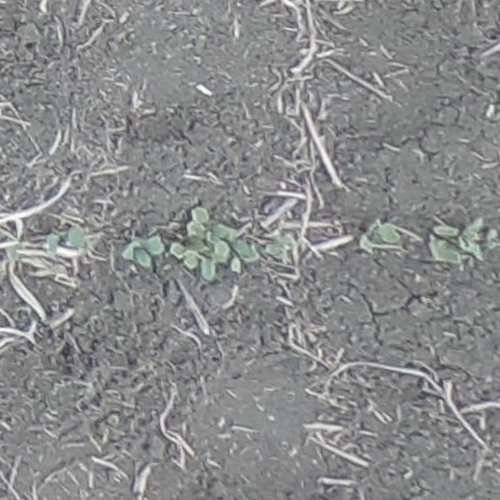clumped: (169, 206, 260, 282)
isolated: (461, 217, 499, 262), (359, 218, 400, 254), (121, 234, 164, 267), (427, 224, 460, 263), (46, 224, 87, 254), (263, 231, 296, 260), (0, 225, 25, 261)
